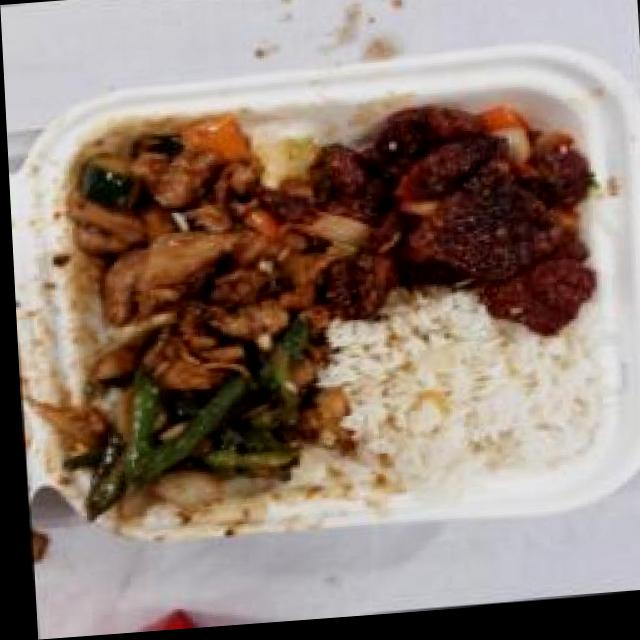Beijing Beef: (305, 90, 609, 366)
Kung Pao Chicken: (50, 110, 330, 368)
String Bean Chicken Breast: (64, 326, 321, 520)
White Steamed Rice: (327, 311, 597, 507)
